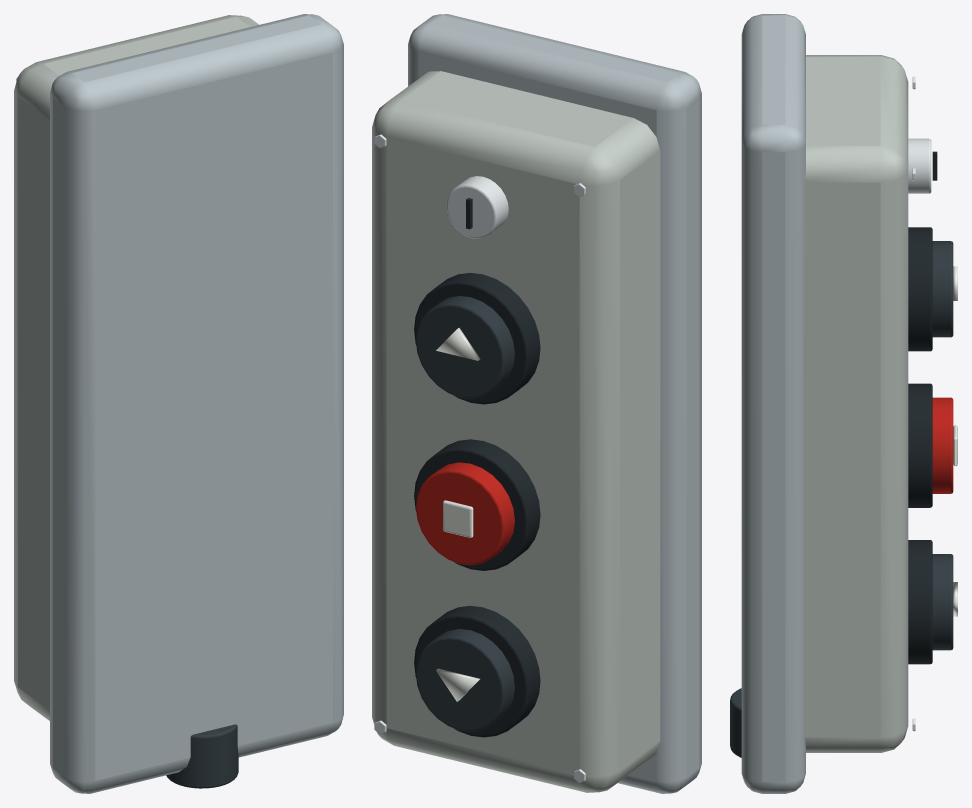
File: shutter_control.glb
The picture shows the model from 3 angles, left to right: view 1: azimuth 30°, elevation 25°; view 2: azimuth 150°, elevation 25°; view 3: azimuth 270°, elevation 25°; orthographic projection. The views are drawn at different scales.
Visible parts, largest first — view 1: shutter_control_render_mesh; view 2: shutter_control_render_mesh; view 3: shutter_control_render_mesh.
Part boxes in pixels (x1,y1,x2,y2): shutter_control_render_mesh: (14,14,343,793); shutter_control_render_mesh: (372,14,701,793); shutter_control_render_mesh: (730,14,957,793).
Bounding box in the file's own units: 0.13 × 0.325 × 0.099.
